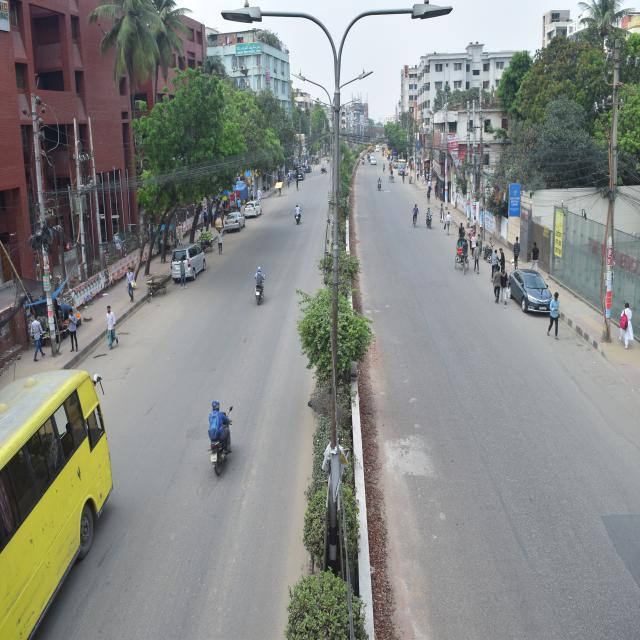car: (507, 255, 554, 312), (243, 192, 261, 217), (225, 207, 243, 229)
microbus: (169, 243, 210, 283)
motorbike: (199, 400, 234, 471), (250, 270, 270, 308), (287, 202, 305, 232), (425, 206, 435, 233), (377, 176, 385, 196)
